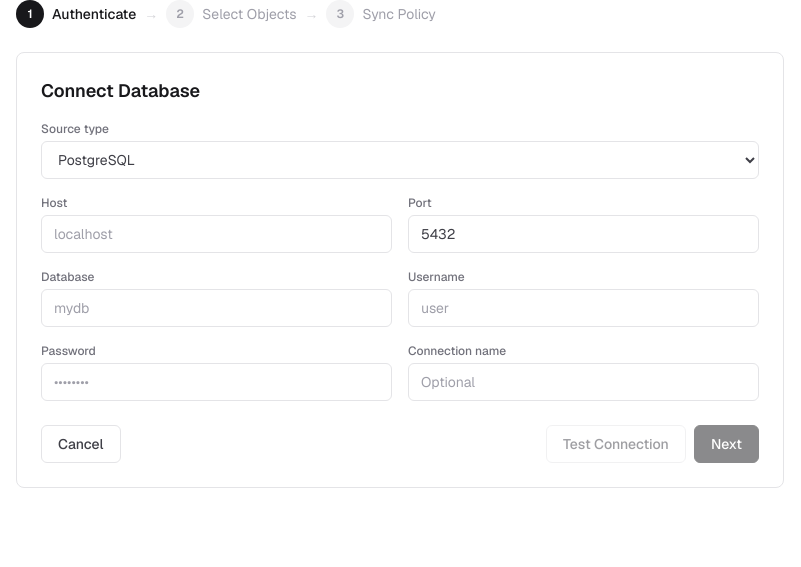
it: ConnectionWizard › enables Next after successful test
# Fill in required fields
Type "db.example.com" into the field with placeholder "localhost".
click(216, 234); type("db.example.com")  # box [41,215,392,253]
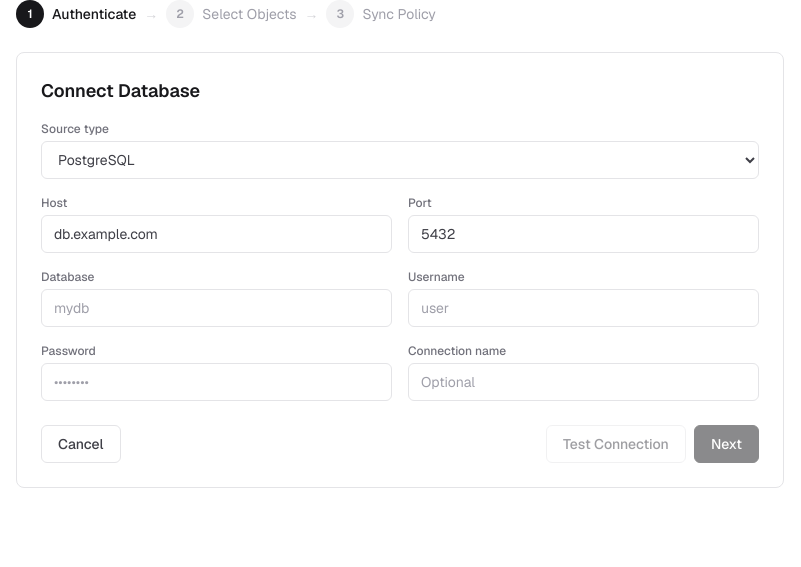
Type "production" into the field with placeholder "mydb".
click(216, 308); type("production")  # box [41,289,392,327]
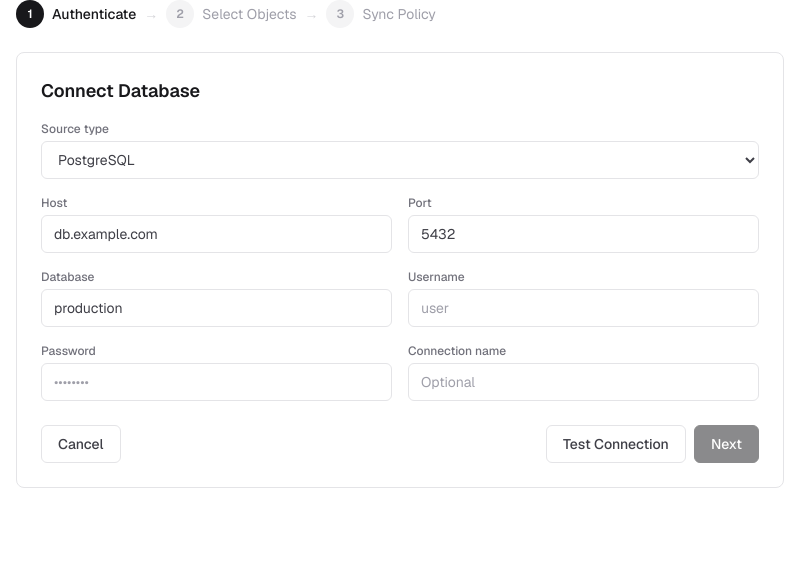
# Click Test Connection
Click the button "Test Connection".
click(616, 444)  # box [546,425,686,463]
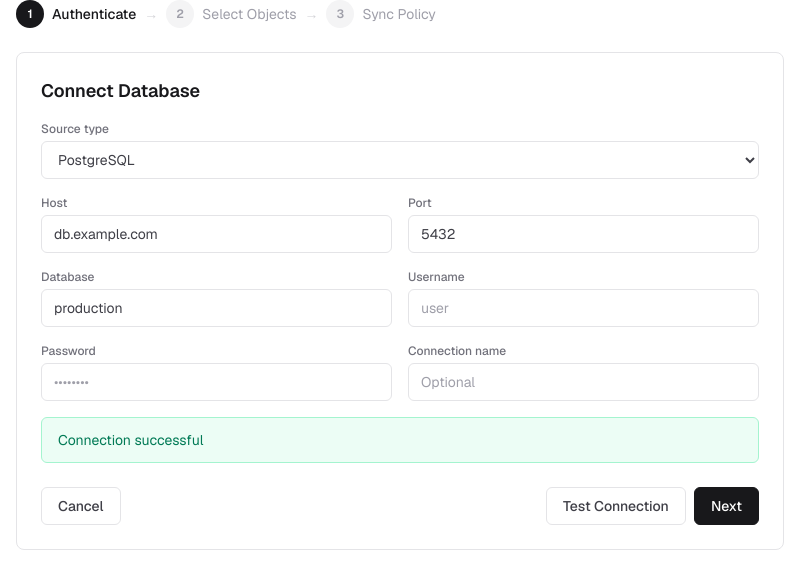
Expected: the text "Connection successful" is shown, [41,417,759,463]
Expected: the button "Next" is enabled, [694,487,759,525]
